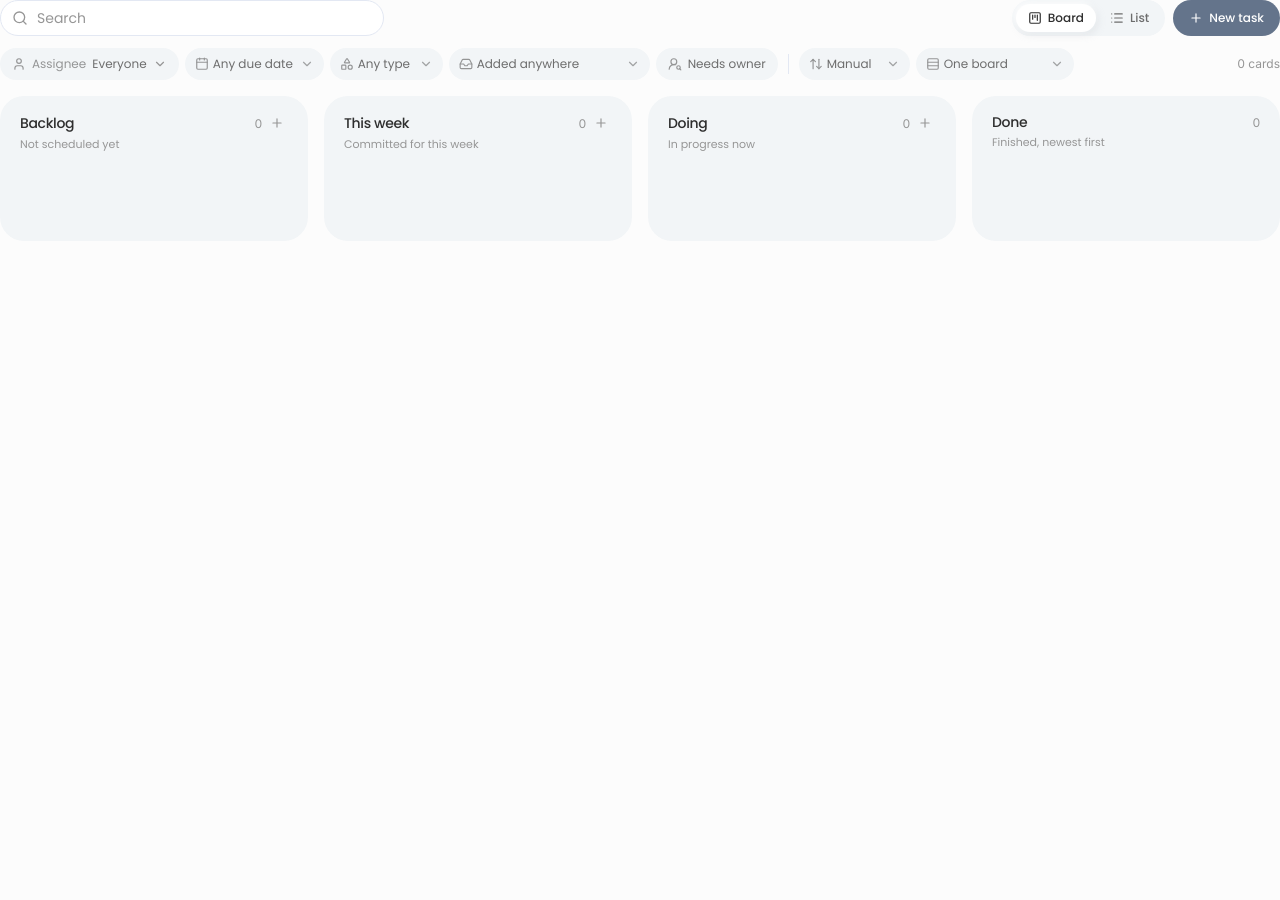
TaskBoard: adding at the top › New task opens the full editor, empty
Click the button "New task" at (1227, 18), box [1173, 0, 1279, 36]
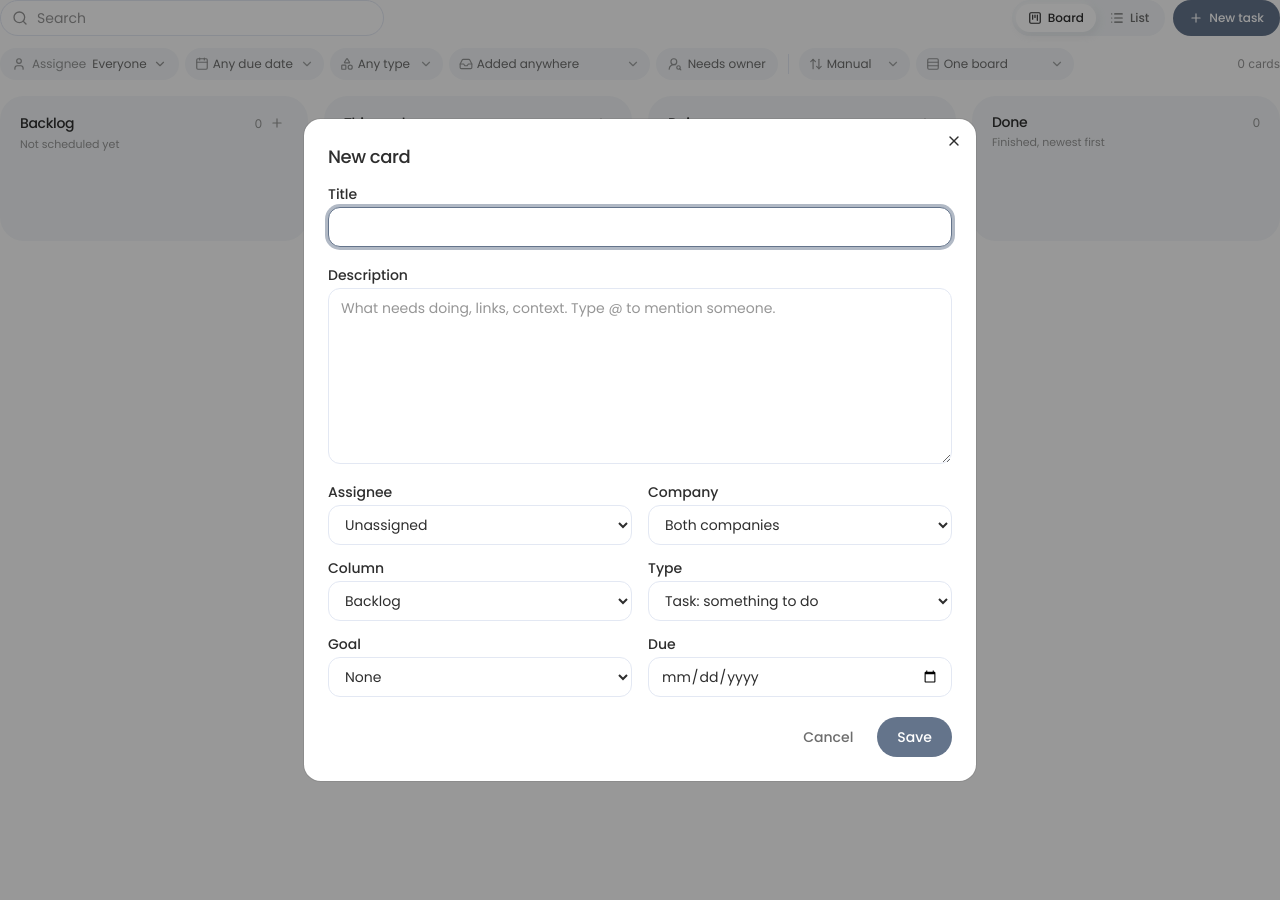
Result: the heading "New card" is shown at [328, 144, 410, 169]
